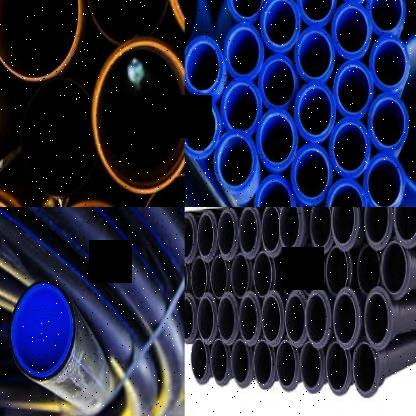pipe: (90, 38, 185, 192), (20, 79, 98, 197), (9, 280, 75, 381), (0, 0, 79, 79), (86, 0, 169, 44), (397, 25, 416, 199), (213, 129, 258, 193), (328, 116, 371, 178), (291, 143, 333, 205), (256, 108, 298, 169), (294, 82, 336, 143), (367, 92, 409, 152), (332, 61, 374, 119), (221, 78, 262, 136), (369, 34, 410, 92), (331, 2, 372, 60), (294, 27, 336, 83), (223, 23, 265, 79), (185, 36, 224, 96), (363, 152, 405, 207), (258, 54, 299, 110), (185, 96, 220, 160), (260, 0, 301, 52), (352, 336, 381, 398), (381, 238, 410, 300), (364, 288, 392, 352), (333, 286, 361, 350), (304, 288, 331, 348), (325, 338, 352, 396), (366, 0, 406, 36), (254, 173, 295, 207), (285, 288, 308, 348), (300, 244, 325, 298), (139, 178, 185, 207), (326, 246, 352, 297), (300, 341, 325, 394), (276, 338, 300, 392), (363, 207, 393, 250), (238, 291, 261, 347), (261, 290, 284, 346), (357, 242, 381, 295), (331, 207, 359, 252), (238, 207, 262, 259), (279, 207, 304, 256), (325, 178, 367, 207), (309, 207, 334, 255), (253, 338, 276, 389), (217, 292, 239, 345), (217, 207, 239, 260), (197, 292, 218, 345), (296, 0, 337, 27), (197, 209, 217, 263), (231, 339, 253, 388), (260, 207, 281, 257), (253, 252, 276, 297), (210, 338, 231, 387), (191, 338, 211, 385), (231, 254, 252, 298), (226, 0, 266, 23), (393, 207, 416, 247), (210, 255, 231, 298), (281, 253, 301, 295), (191, 256, 210, 299), (185, 212, 197, 264), (185, 293, 197, 344), (184, 258, 190, 302)
